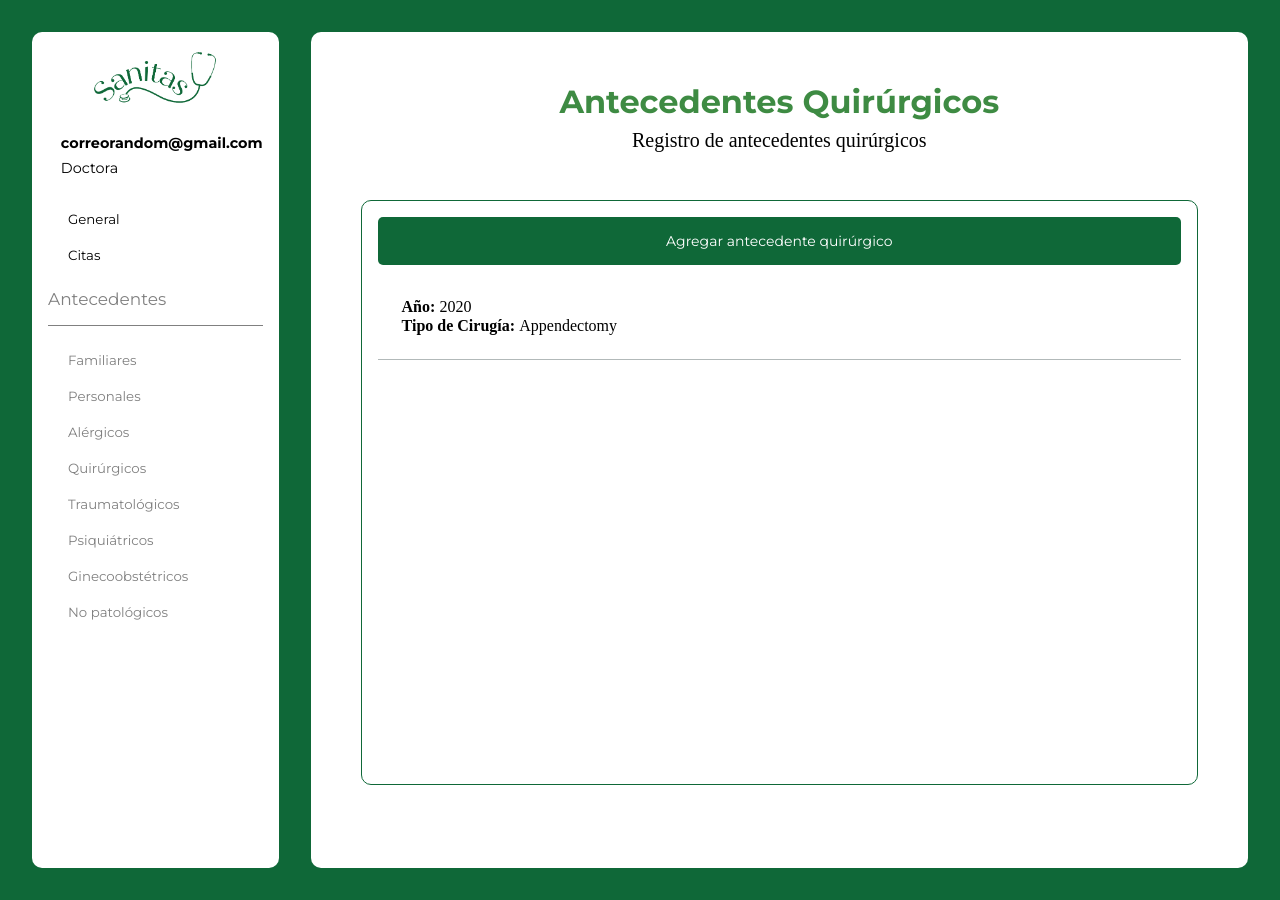
Test: SurgicalHistory Component Tests › opens new form on button click
Step 1. Click the button "Agregar antecedente quirúrgico" → click(779, 241), box [378,217,1181,265]
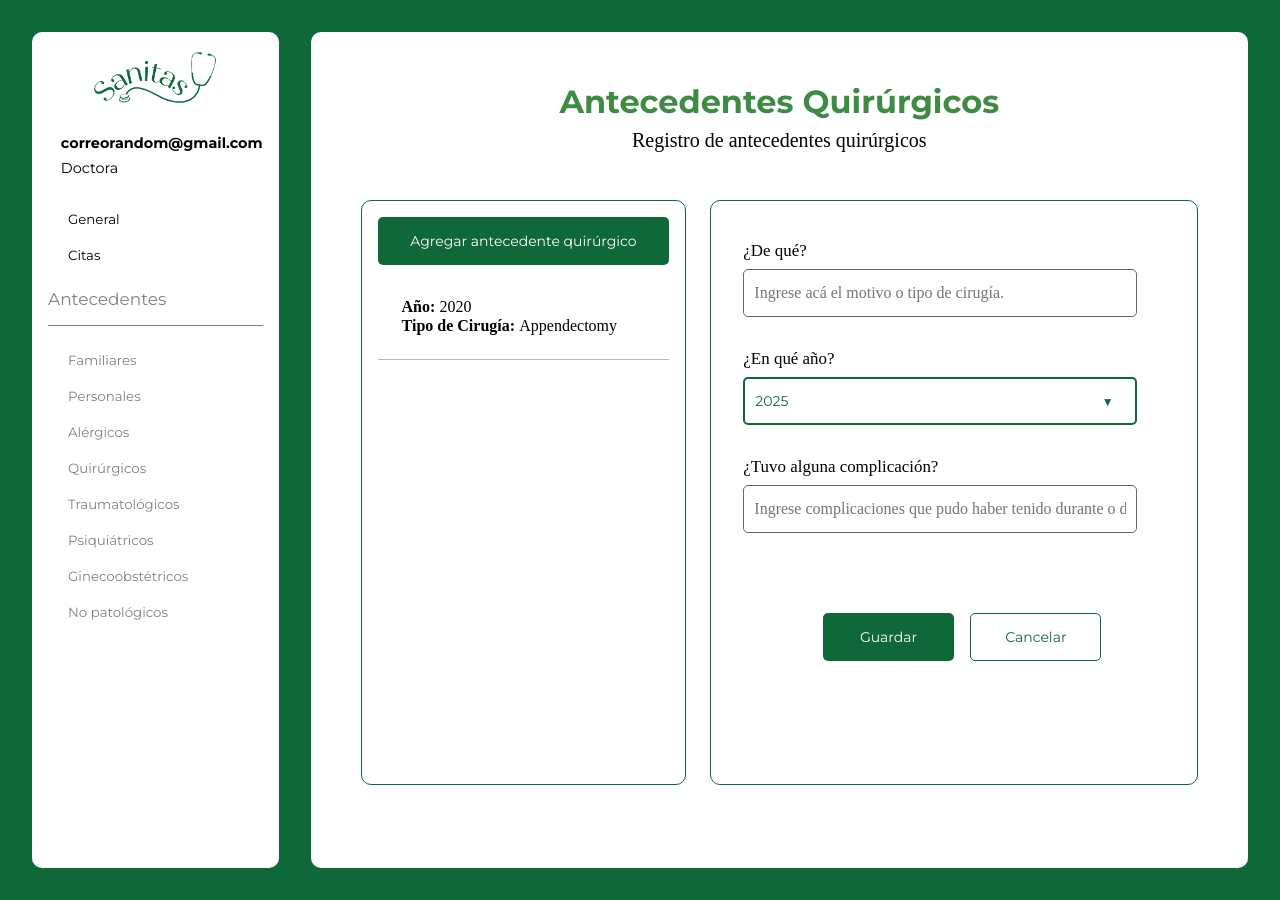
Check: the text "Guardar" is shown, box [860,628,917,646]
